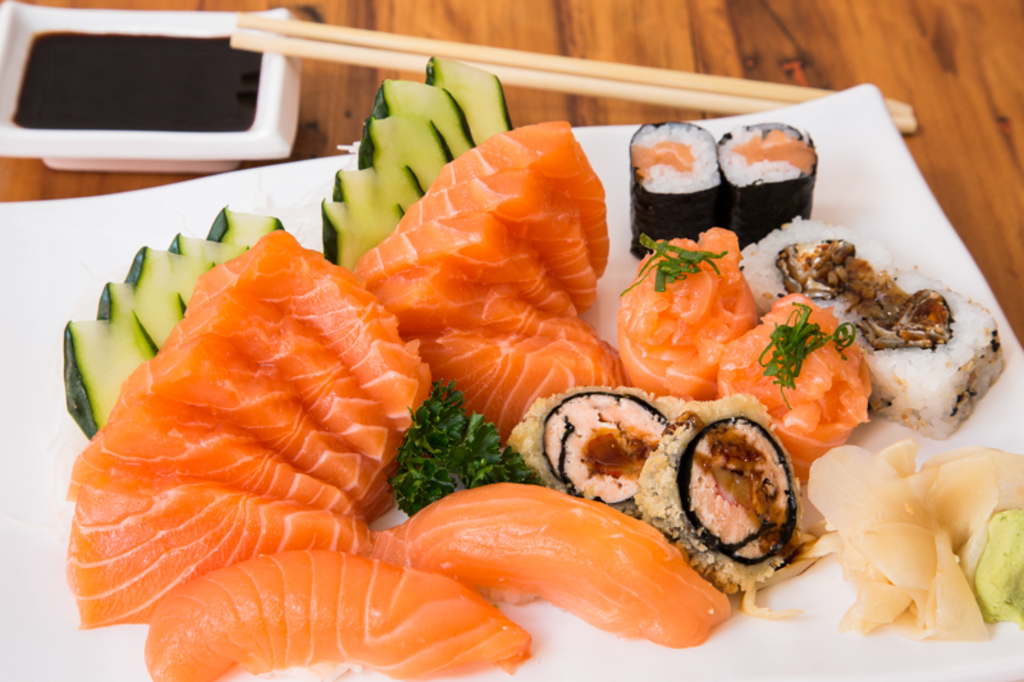sushi: (740, 216, 1010, 438), (667, 432, 809, 594), (507, 388, 676, 512), (719, 122, 820, 252), (634, 123, 724, 257)
